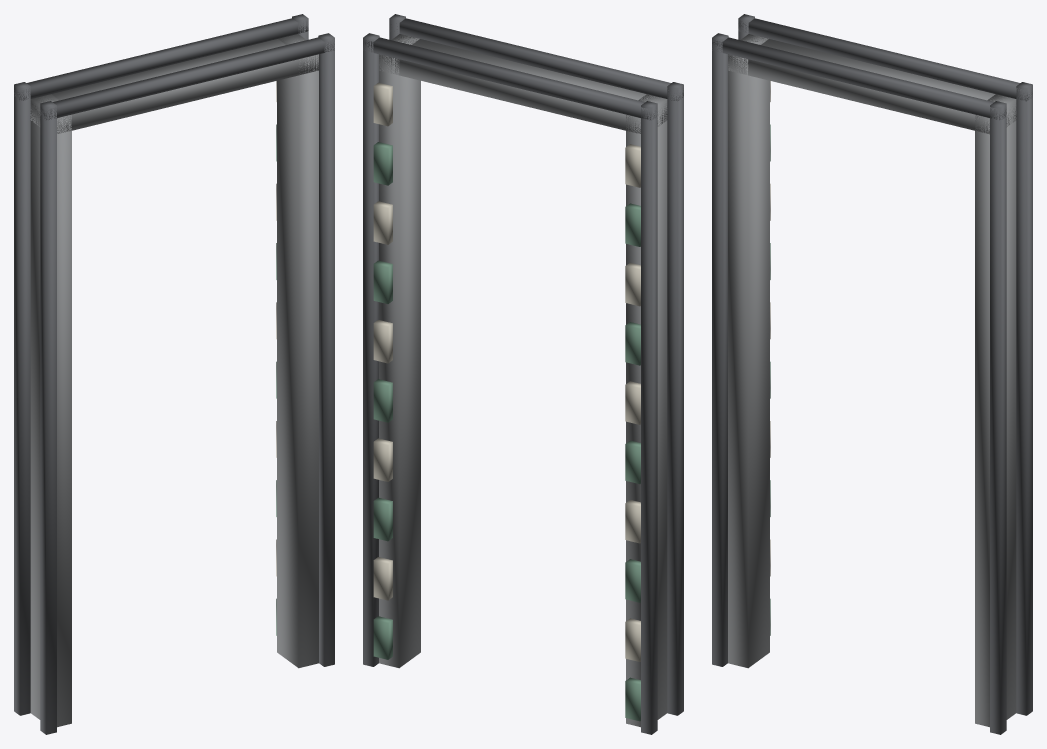
The model's file is doorway_tile_return_w96_h240_d16.glb.
3 views of the same model, side by side, from view 1: azimuth 30°, elevation 25°; view 2: azimuth 150°, elevation 25°; view 3: azimuth 330°, elevation 25° (orthographic).
Parts seen in each view (by area): view 1: world; view 2: world; view 3: world.
Boxes of the visible parts, <box> form: world: <box>14,14,334,734</box>; world: <box>363,14,683,734</box>; world: <box>712,14,1032,734</box>.
Size of the model in its own units: 1.22 by 2.54 by 0.2407.
